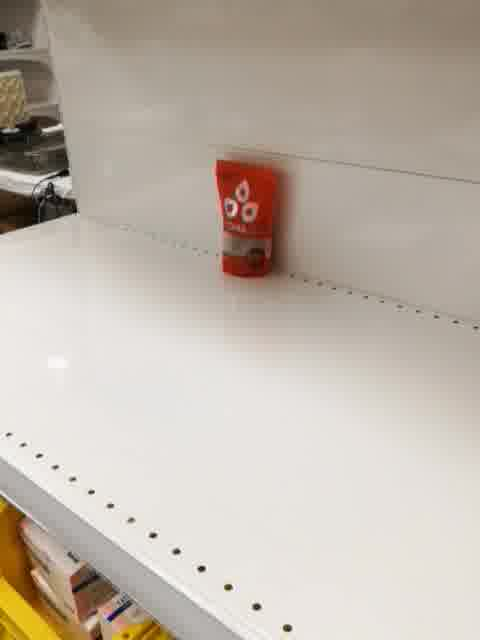whitechia: (212, 157, 283, 282)
